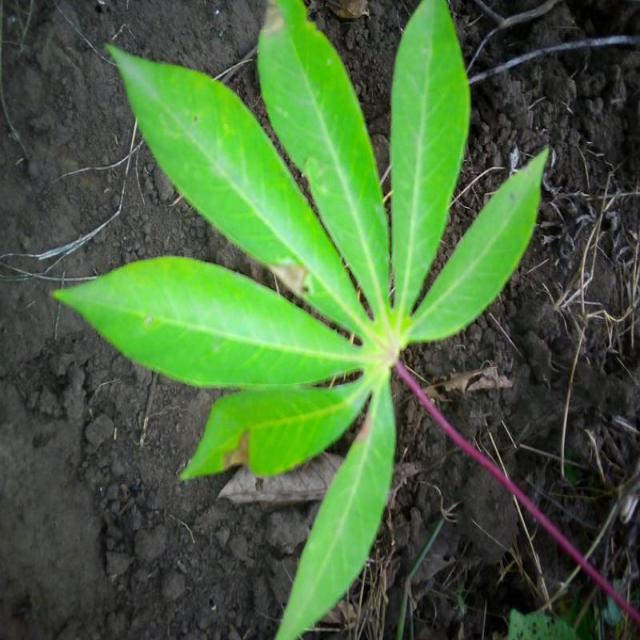cassava leaf: (51, 0, 554, 639), (104, 40, 370, 328), (255, 0, 390, 319), (49, 254, 368, 389), (405, 144, 550, 345), (389, 0, 471, 319)
